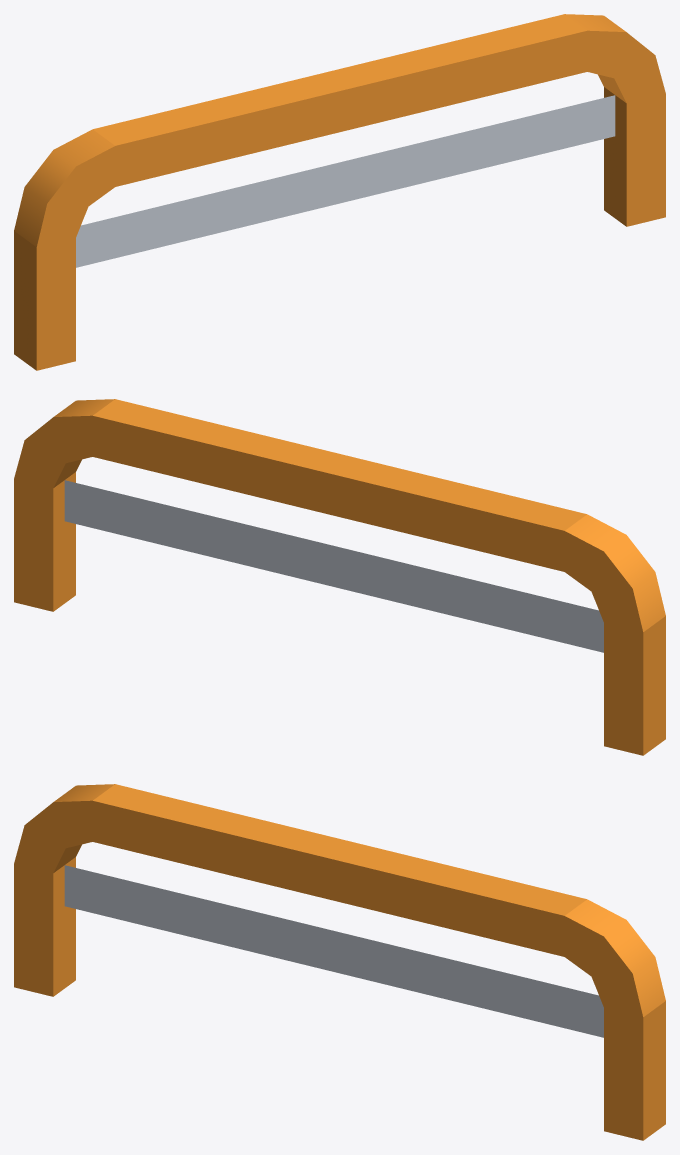
The model's file is rail.glb.
3 renders of one model, top to bottom at view 1: azimuth 30°, elevation 25°; view 2: azimuth 150°, elevation 25°; view 3: azimuth 330°, elevation 25°, orthographic.
Parts seen in each view (by area): view 1: rail; view 2: rail; view 3: rail.
Part boxes in pixels (bbox=[...]): rail: bbox=[14, 14, 665, 370]; rail: bbox=[14, 399, 665, 755]; rail: bbox=[14, 784, 665, 1140].
Size of the model in its own units: 0.8 by 0.25 by 0.05.
